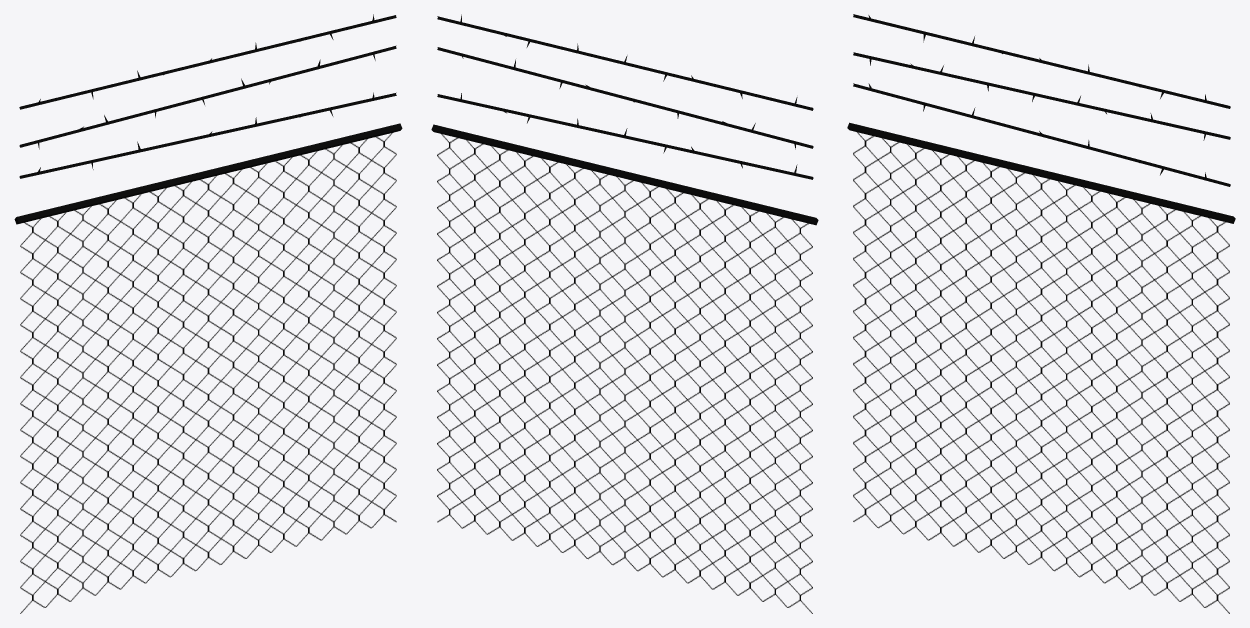
Rendered from fence-metal-barbed-open.glb.
3 views of the same model, side by side, from view 1: azimuth 30°, elevation 25°; view 2: azimuth 150°, elevation 25°; view 3: azimuth 330°, elevation 25° (orthographic).
Visible parts, largest first — view 1: fence.metal_barbed_open; view 2: fence.metal_barbed_open; view 3: fence.metal_barbed_open.
Part boxes in pixels (bbox=[...]): fence.metal_barbed_open: bbox=[14, 14, 402, 613]; fence.metal_barbed_open: bbox=[431, 14, 818, 613]; fence.metal_barbed_open: bbox=[847, 14, 1235, 613].
Bounding box in the file's own units: 2.04 × 2.61 × 0.069.
2 materials, 1 textured.
